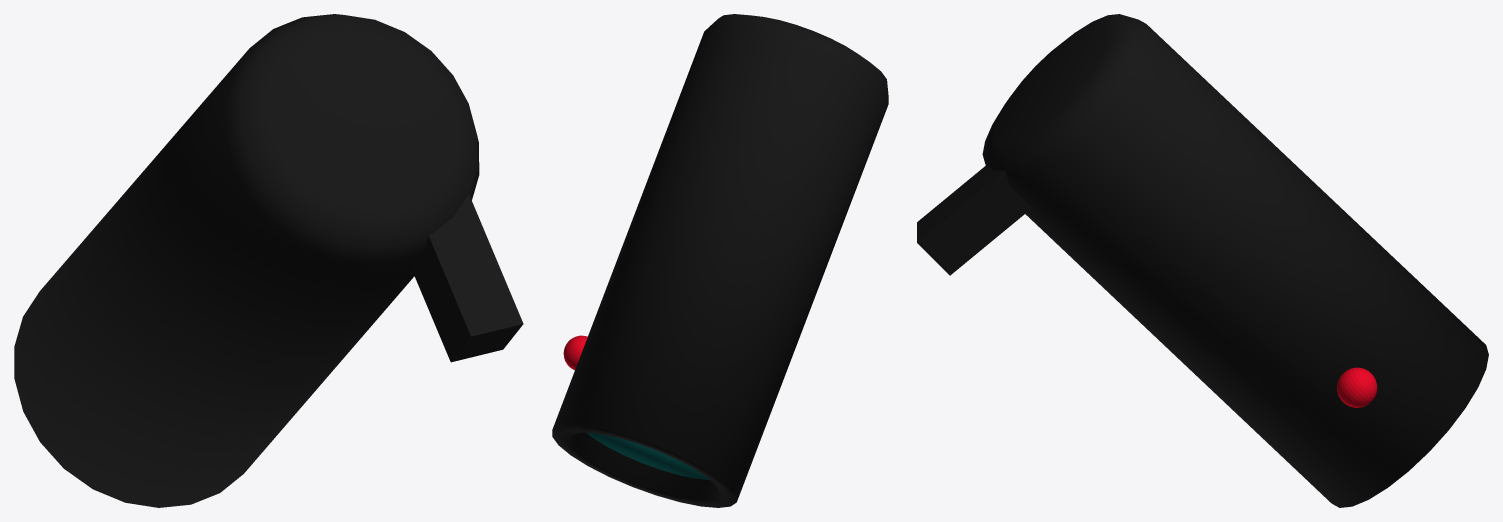
File: camera.fbx
3 renders of one model, left to right at view 1: azimuth 30°, elevation 25°; view 2: azimuth 150°, elevation 25°; view 3: azimuth 270°, elevation 25°, orthographic. The views are drawn at different scales.
Parts seen in each view (by area): view 1: Cylinder.007, Cube.022; view 2: Cylinder.007; view 3: Cylinder.007, Cube.022.
Boxes of the visible parts, left/top/right/bottom form: Cylinder.007: left=14, top=14, right=479, bottom=507; Cube.022: left=411, top=194, right=523, bottom=362; Cylinder.007: left=552, top=14, right=888, bottom=507; Cylinder.007: left=982, top=14, right=1488, bottom=507; Cube.022: left=917, top=166, right=1032, bottom=275.
Bounding box in the file's own units: 33.85 × 72.07 × 80.01.
